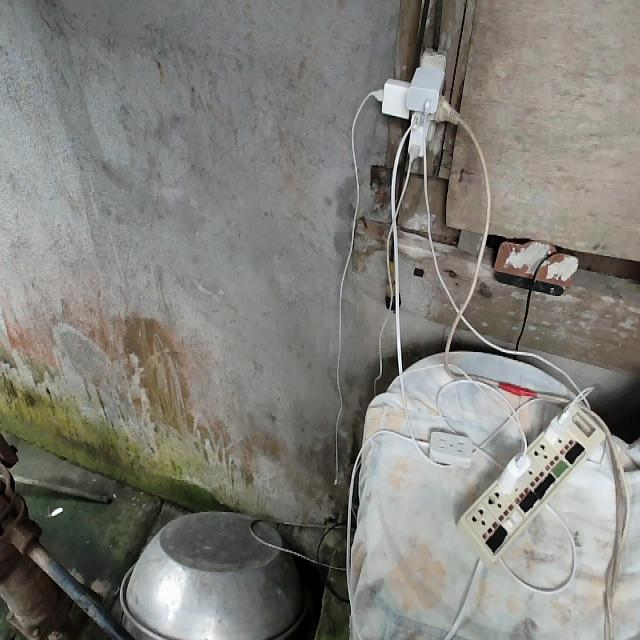-: (370, 48, 464, 163)
